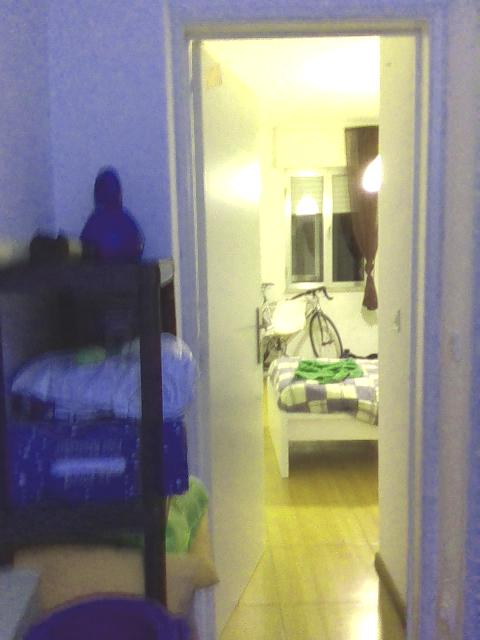open_door: (175, 11, 433, 639)
